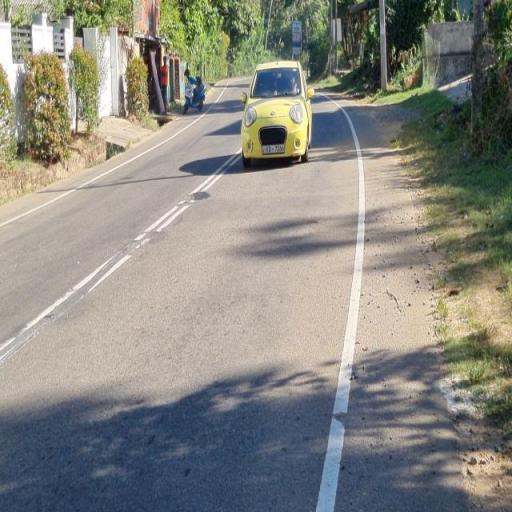double_white_line: (0, 252, 134, 362), (130, 147, 240, 249)
